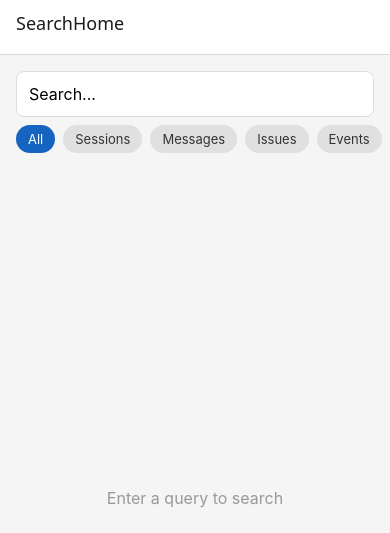
SearchScreen › shows loading indicator while request is pending
Type "test" into the field with test id "search-input".
click(195, 94); type("test")  # box [16,71,374,117]
Wait 400 ms
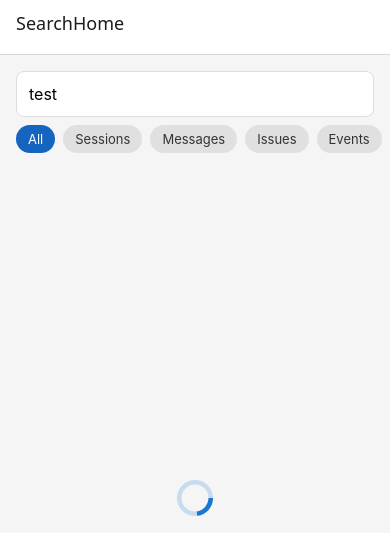
Expected: the progress indicator with test id "loading-spinner" is shown, [177,480,213,516]
